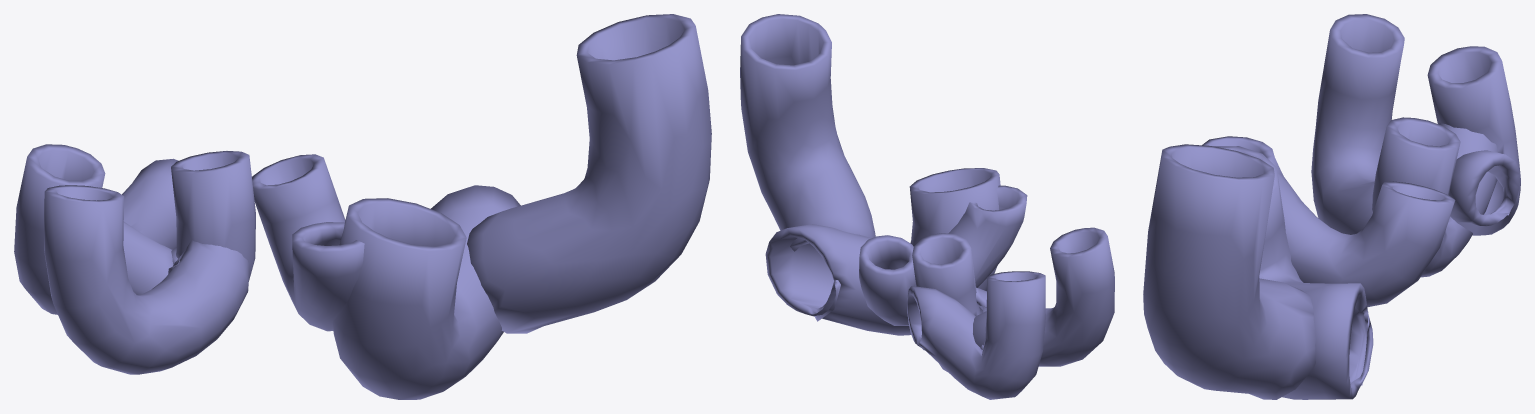
The model's file is Smooth Endoplasmic Reticulum.glb.
3 renders of one model, left to right at view 1: azimuth 30°, elevation 25°; view 2: azimuth 150°, elevation 25°; view 3: azimuth 270°, elevation 25°, orthographic. The views are drawn at different scales.
Parts seen in each view (by area): view 1: BezierCurve.006, BezierCurve.004, BezierCurve.005; view 2: BezierCurve.006, BezierCurve.005, BezierCurve.004; view 3: BezierCurve.006, BezierCurve.004, BezierCurve.005.
Boxes of the visible parts, x1,y1,x2,y2 form: BezierCurve.006: [332, 14, 711, 399]; BezierCurve.004: [44, 154, 364, 374]; BezierCurve.005: [14, 144, 255, 314]; BezierCurve.006: [740, 14, 1000, 335]; BezierCurve.005: [907, 233, 1045, 399]; BezierCurve.004: [859, 185, 1114, 366]; BezierCurve.006: [1143, 144, 1373, 399]; BezierCurve.004: [1202, 14, 1455, 307]; BezierCurve.005: [1372, 46, 1520, 277].
Bounding box in the file's own units: 1.66 × 0.9343 × 0.9996.
